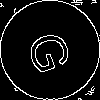G: (25, 25, 81, 77)
